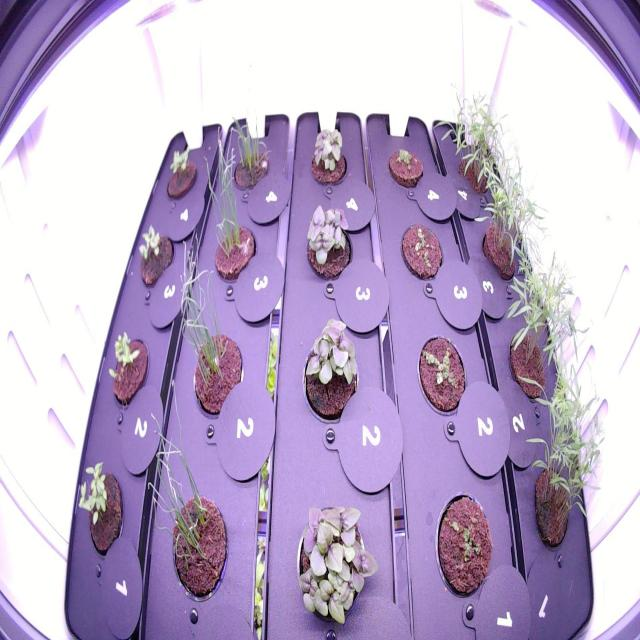germination: (431, 486, 495, 606), (73, 457, 130, 569), (411, 327, 472, 422), (220, 102, 276, 195), (102, 326, 151, 410), (130, 220, 180, 295), (393, 220, 447, 289), (156, 142, 201, 204), (382, 141, 427, 192)
